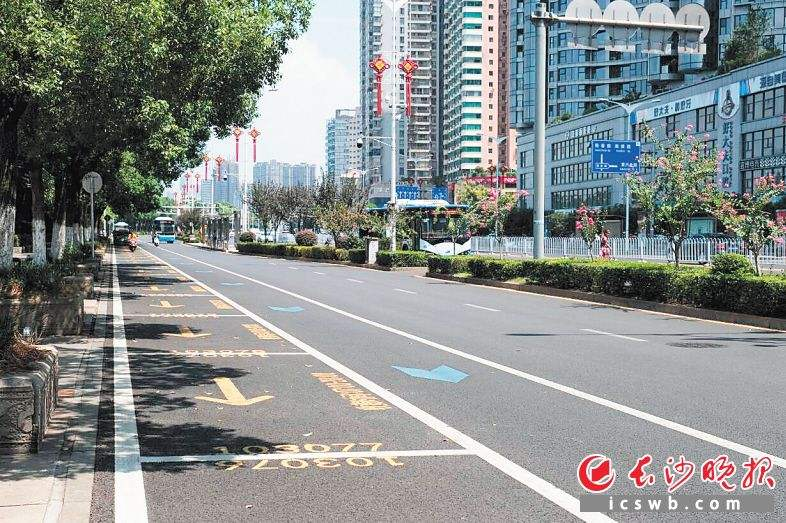slot_nocar: (112, 341, 490, 491), (103, 302, 340, 372), (110, 271, 244, 311)
